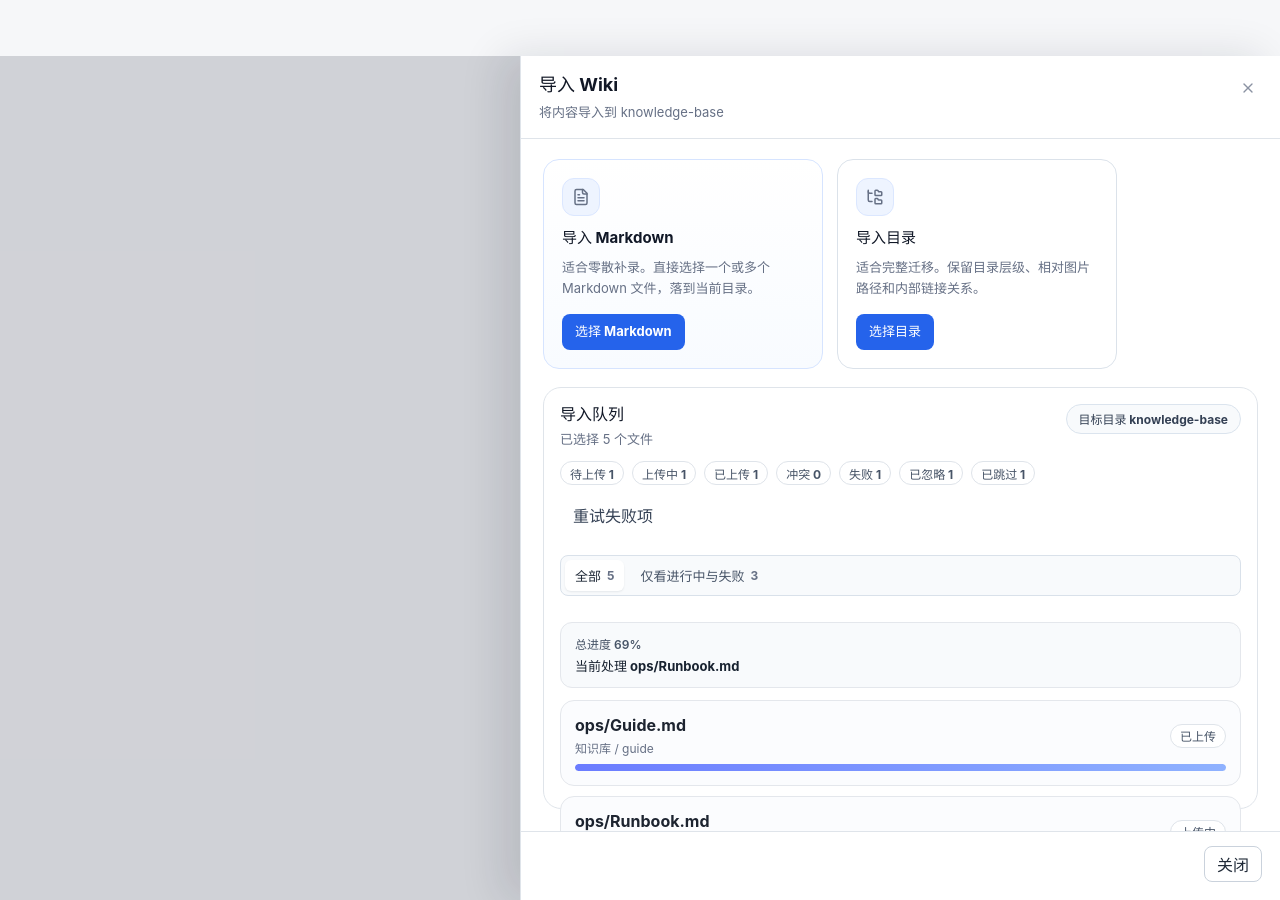
Scenario: WikiImportDialog › filters the queue down to active work while keeping ignored files separate
Expected: the text "ops/Guide.md" is shown, [575,716,686,736]
Click the tab "仅看进行中与失败 3": (699, 576) [630,560,768,592]
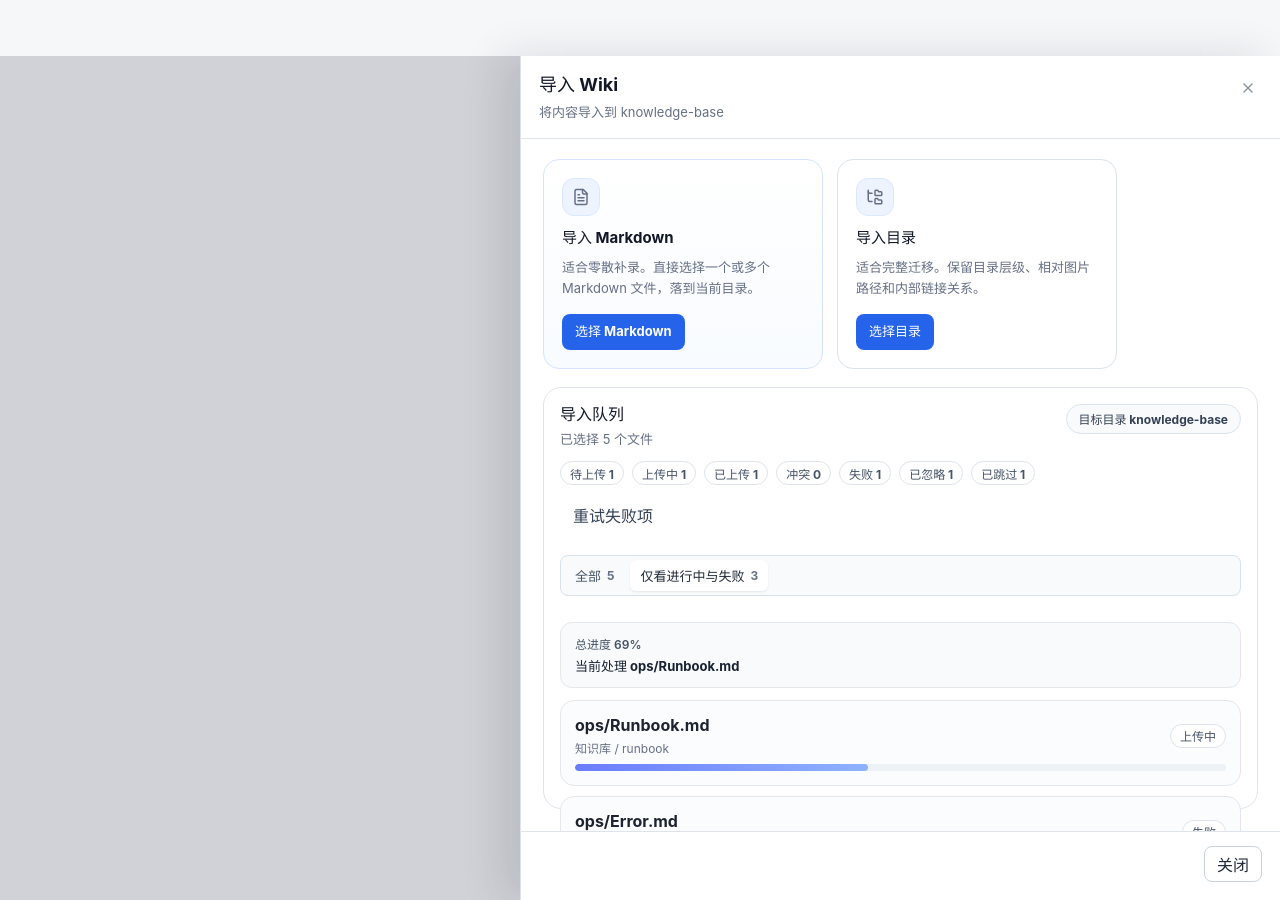
Expected: the text "ops/Runbook.md" is shown, [575,716,710,736]
Expected: the text "ops/Guide.md" is gone
Expected: the text "ops/Error.md" is shown, [575,812,678,831]
Click the button "已忽略 1": (931, 474) [899,462,963,486]
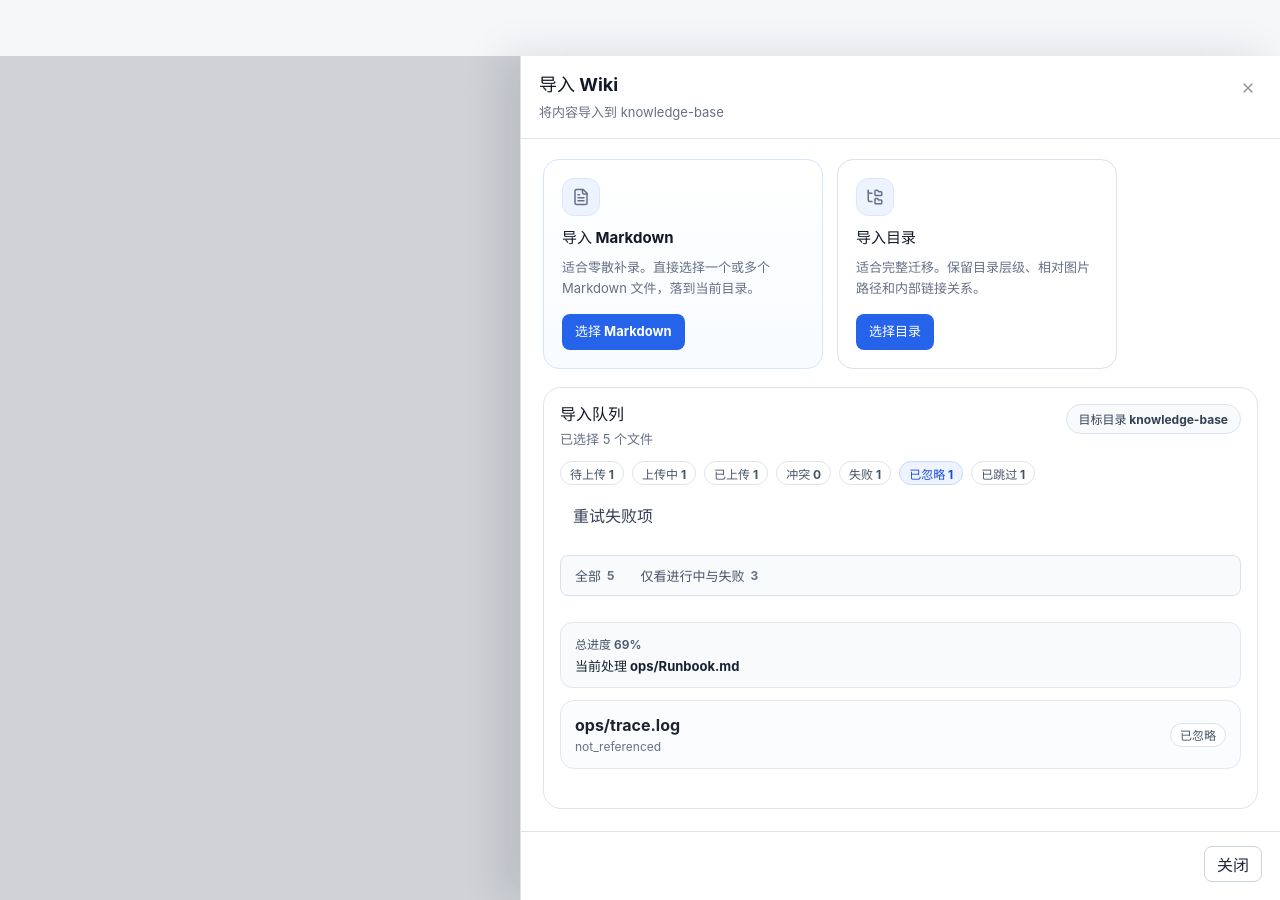
Expected: the text "ops/trace.log" is shown, [575,716,680,736]
